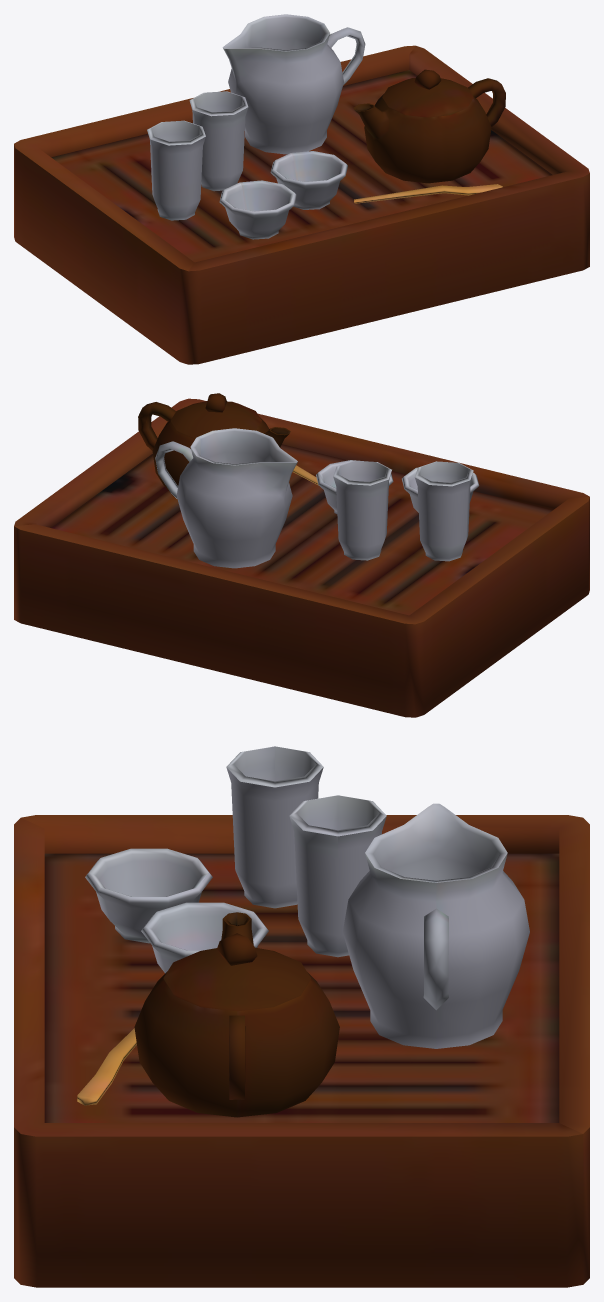
3 views of the same model, one above another, from view 1: azimuth 30°, elevation 25°; view 2: azimuth 150°, elevation 25°; view 3: azimuth 270°, elevation 25° (orthographic). The views are drawn at different scales.
Bounding box in the file's own units: 8.2 × 3.49 × 6.2.
1 material, 1 textured.
